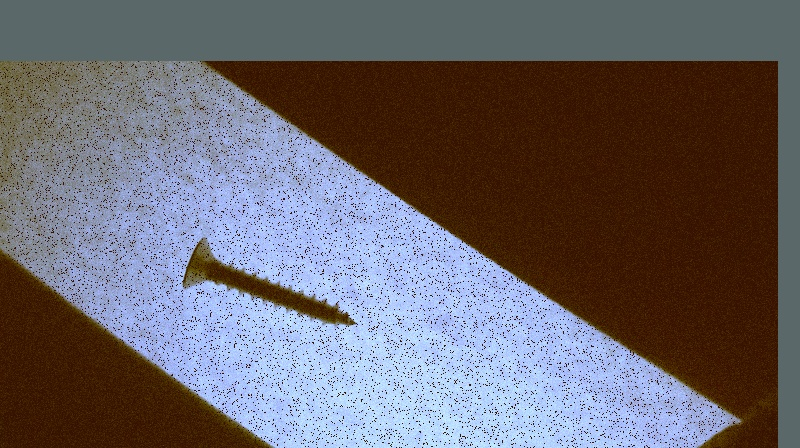S001: (180, 235, 364, 331)
